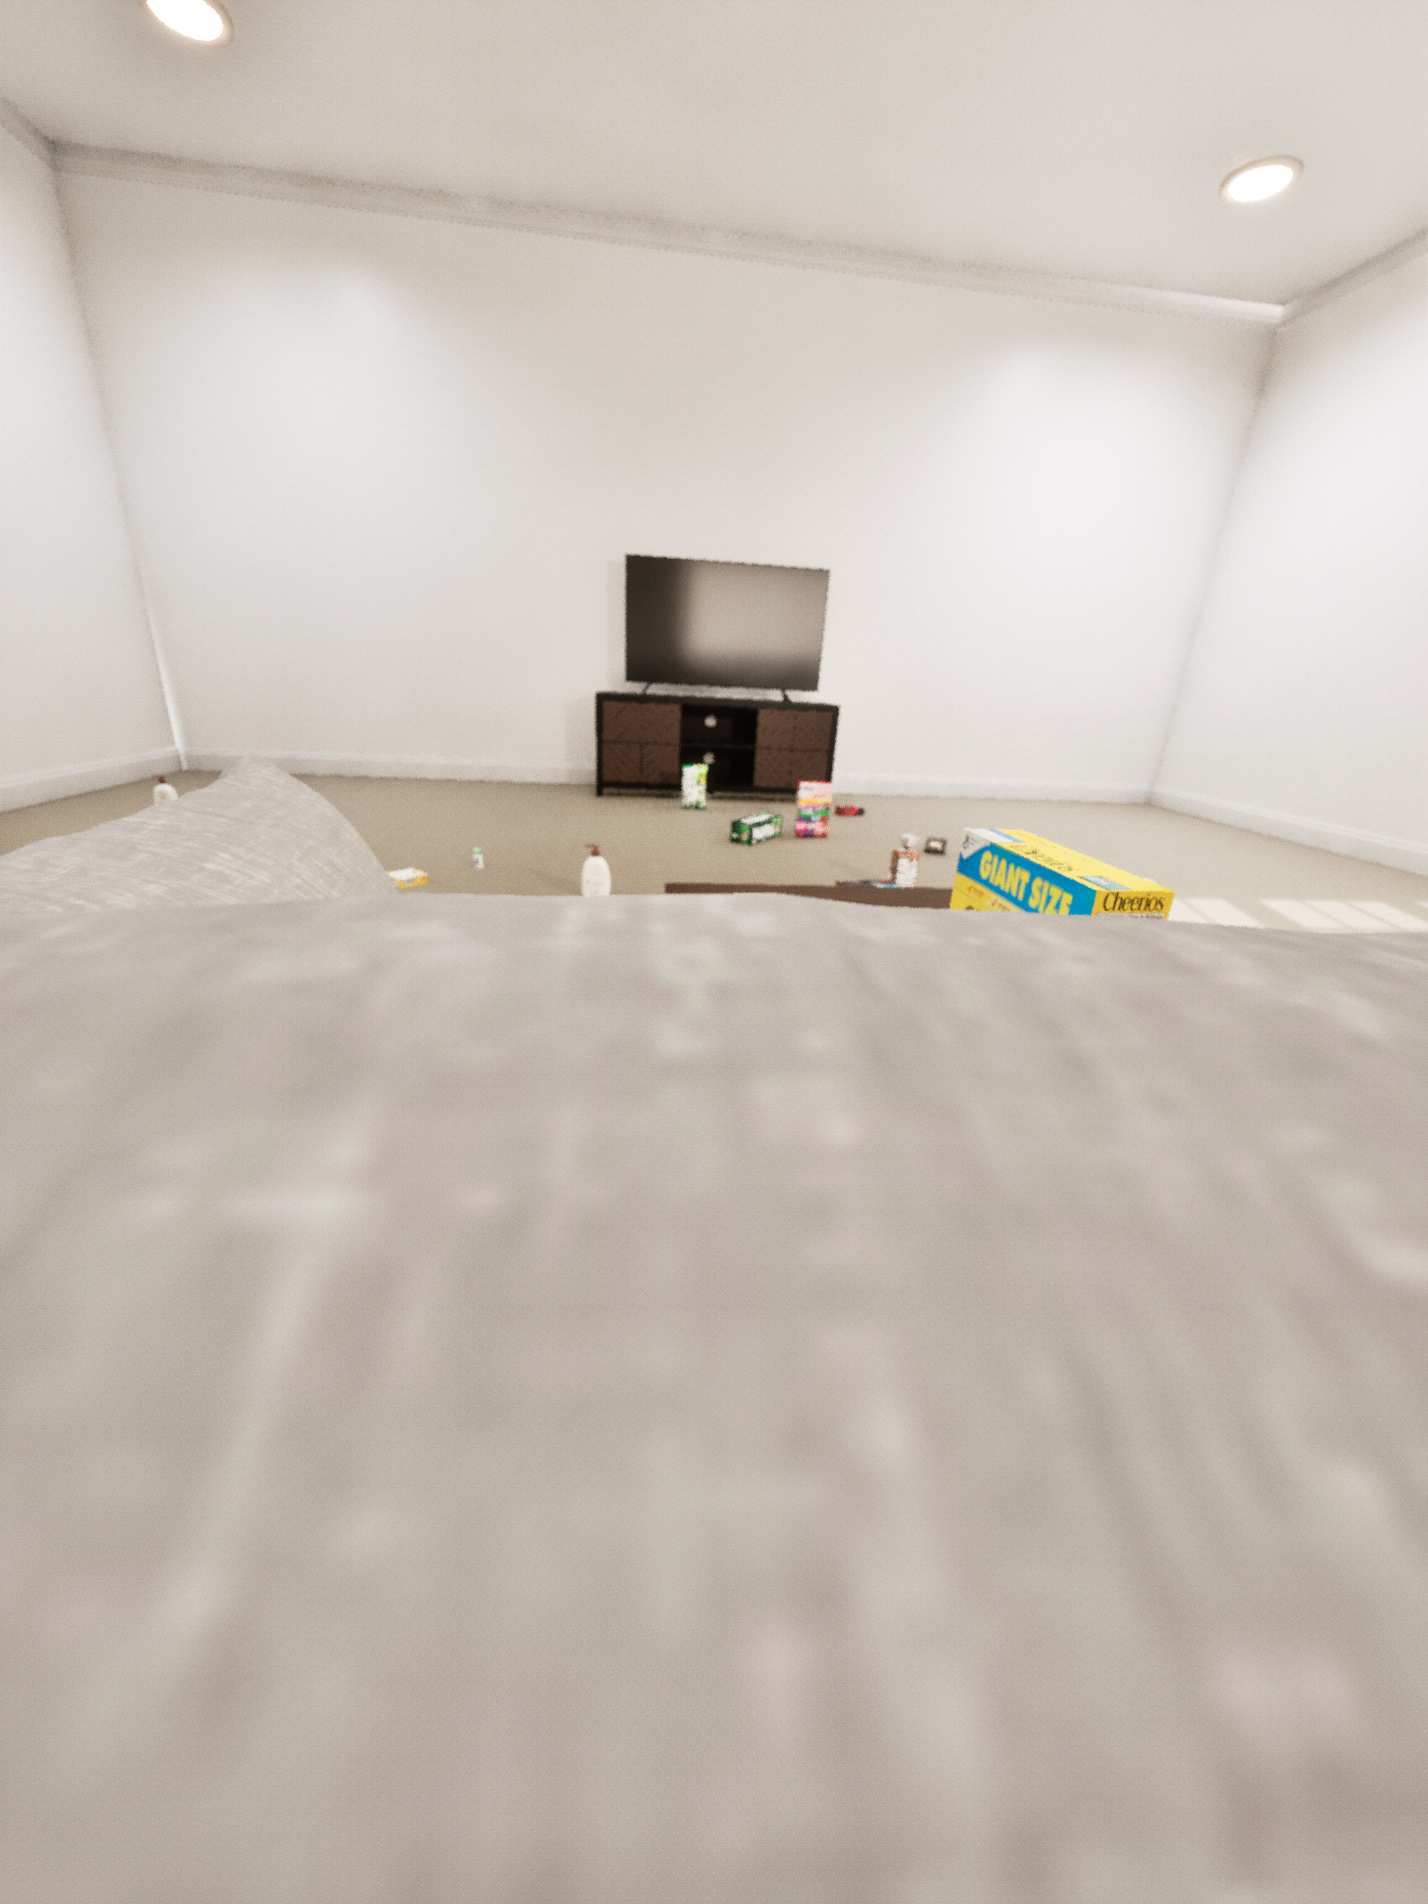cheerios: (949, 828, 1174, 921)
